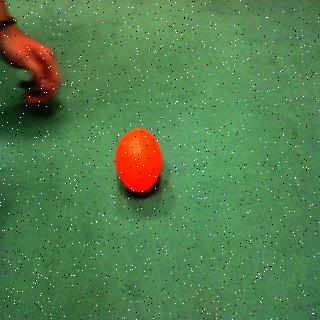orange: (116, 128, 165, 199)
